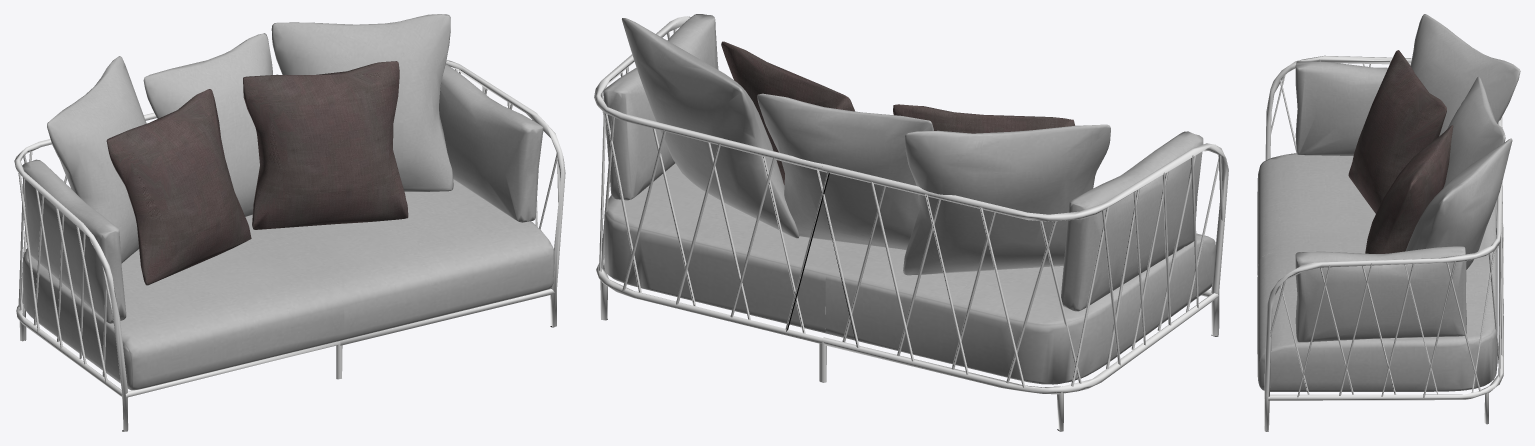
Rendered from sofa-modelo-duplo-encosto-rede.glb.
3 renders of one model, left to right at view 1: azimuth 30°, elevation 25°; view 2: azimuth 150°, elevation 25°; view 3: azimuth 270°, elevation 25°, orthographic. The views are drawn at different scales.
Visible parts, largest first — view 1: Modelo Duplo Encosto rede; view 2: Modelo Duplo Encosto rede; view 3: Modelo Duplo Encosto rede.
Part boxes in pixels (x1,y1,x2,y2): Modelo Duplo Encosto rede: [14, 14, 565, 431]; Modelo Duplo Encosto rede: [594, 14, 1228, 431]; Modelo Duplo Encosto rede: [1257, 14, 1520, 431].
Bounding box in the file's own units: 1.91 × 0.9706 × 1.02.
4 materials, 2 textured.
